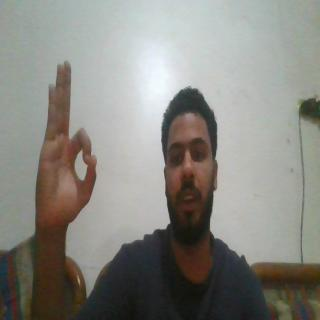Space: (28, 46, 102, 248)
